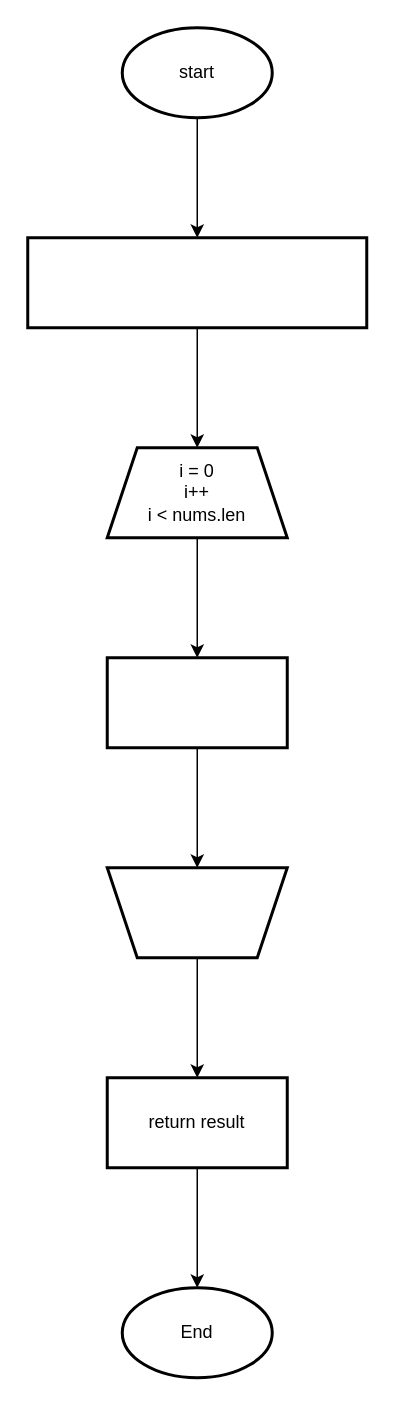
Image size: 393x1404. Some labels were removed from this diagram. Each missing label, with the centre of its shape:
nums[] = [1,2,3,4,5,6,7,8,9,10]: [197,282]
result += nums[i]: [196,702]
